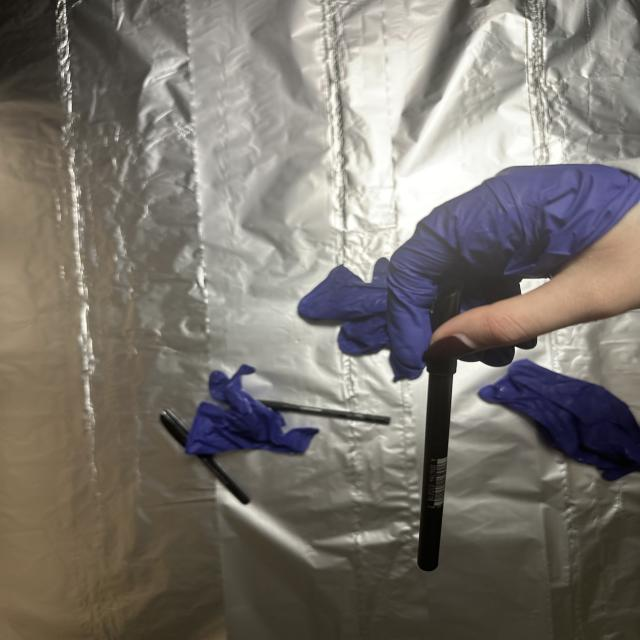glove_partial: (385, 159, 640, 381)
